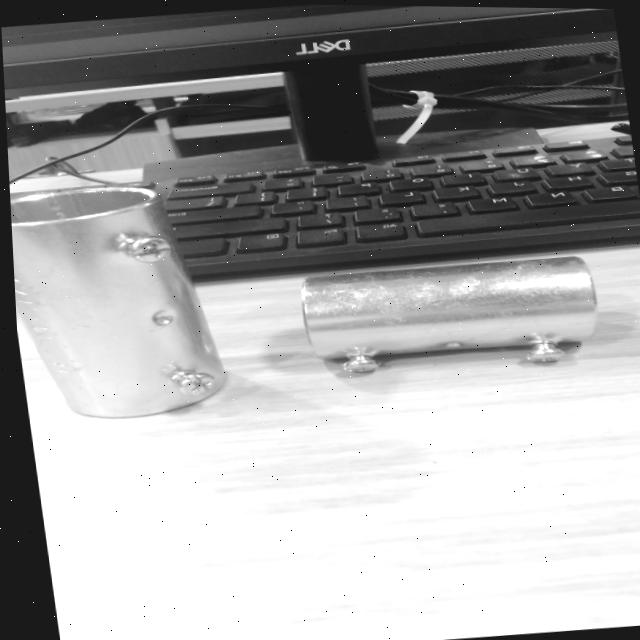Co_Lon: (0, 146, 232, 450), (300, 254, 601, 378)
